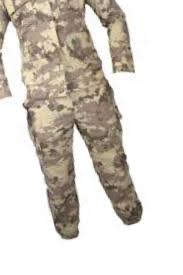uniform: (1, 1, 153, 236)
